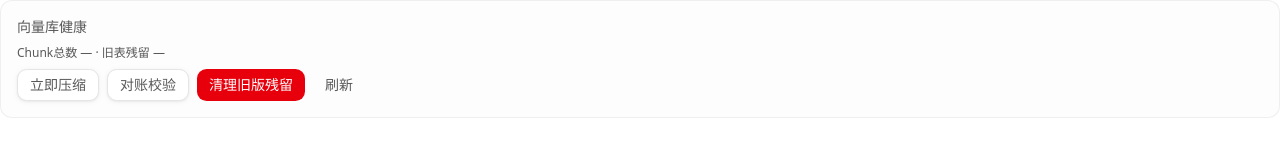
VectorHealthCard › 空清单对账诚实展示已跳过，不假报 reconcile ok
Click the button "对账校验".
click(148, 85)  # box [107,69,189,101]
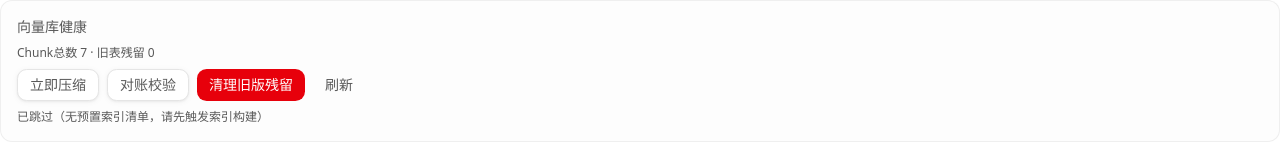
Check: the text "已跳过（无预置索引清单，请先触发索引构建）" is shown, box [17,108,269,125]
